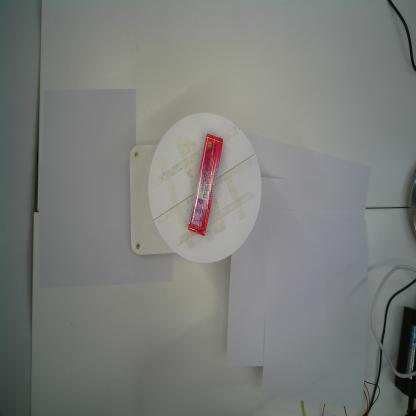Candy: (188, 133, 224, 236)
